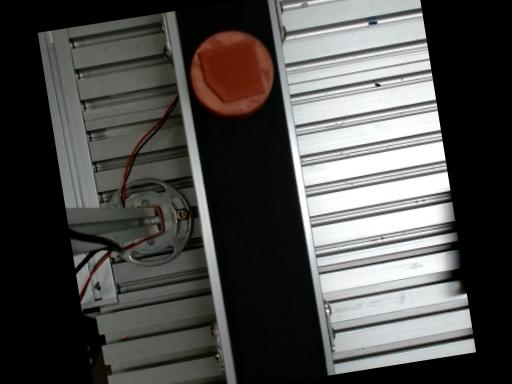Brown_Waper: (189, 30, 273, 117)
Not_Square: (195, 39, 264, 103)
